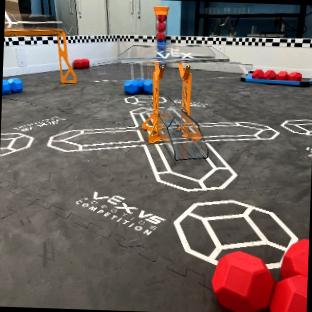Goal: (4, 12, 76, 84)
Med_goal: (117, 39, 230, 160)
V5_BLUE: (124, 79, 153, 94), (2, 78, 23, 94)
V5_RED: (214, 239, 309, 312), (252, 69, 301, 82), (73, 58, 89, 68)
